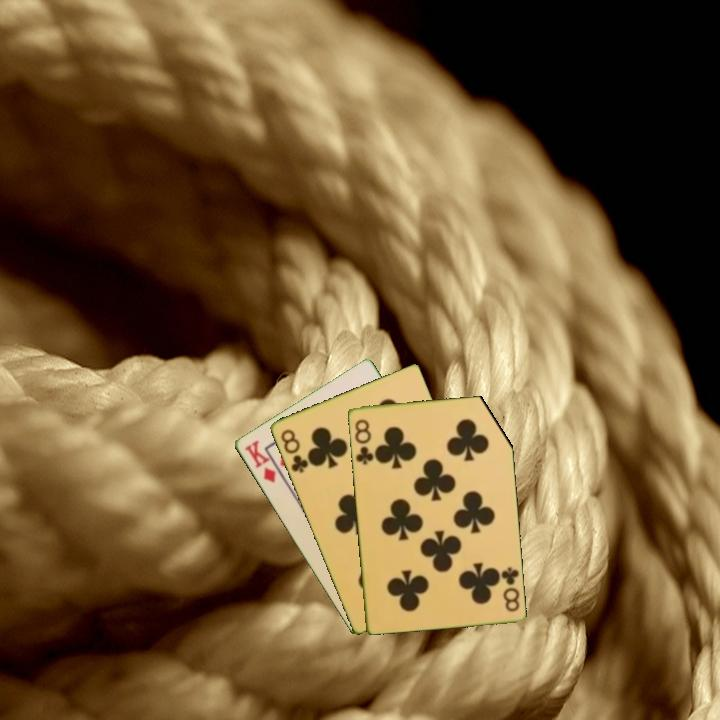8c: (277, 425, 311, 476), (351, 415, 376, 467), (497, 563, 522, 614)
Kd: (241, 436, 278, 486)
